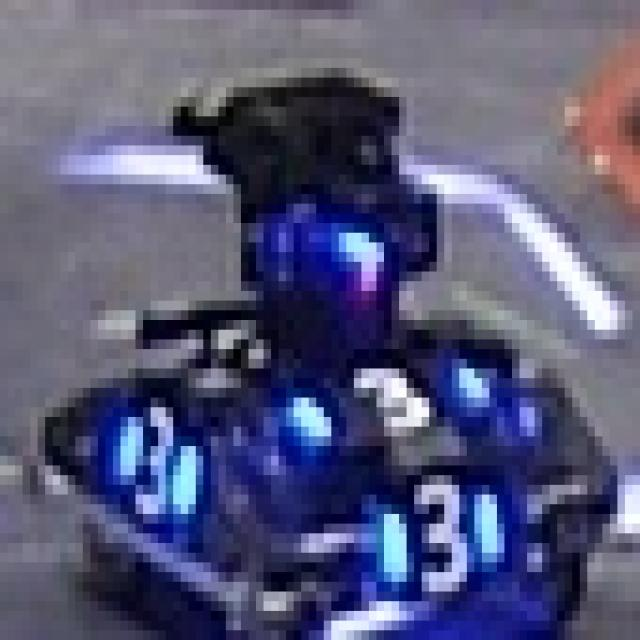B3: (286, 349, 497, 446), (376, 466, 512, 602), (98, 398, 211, 514)
